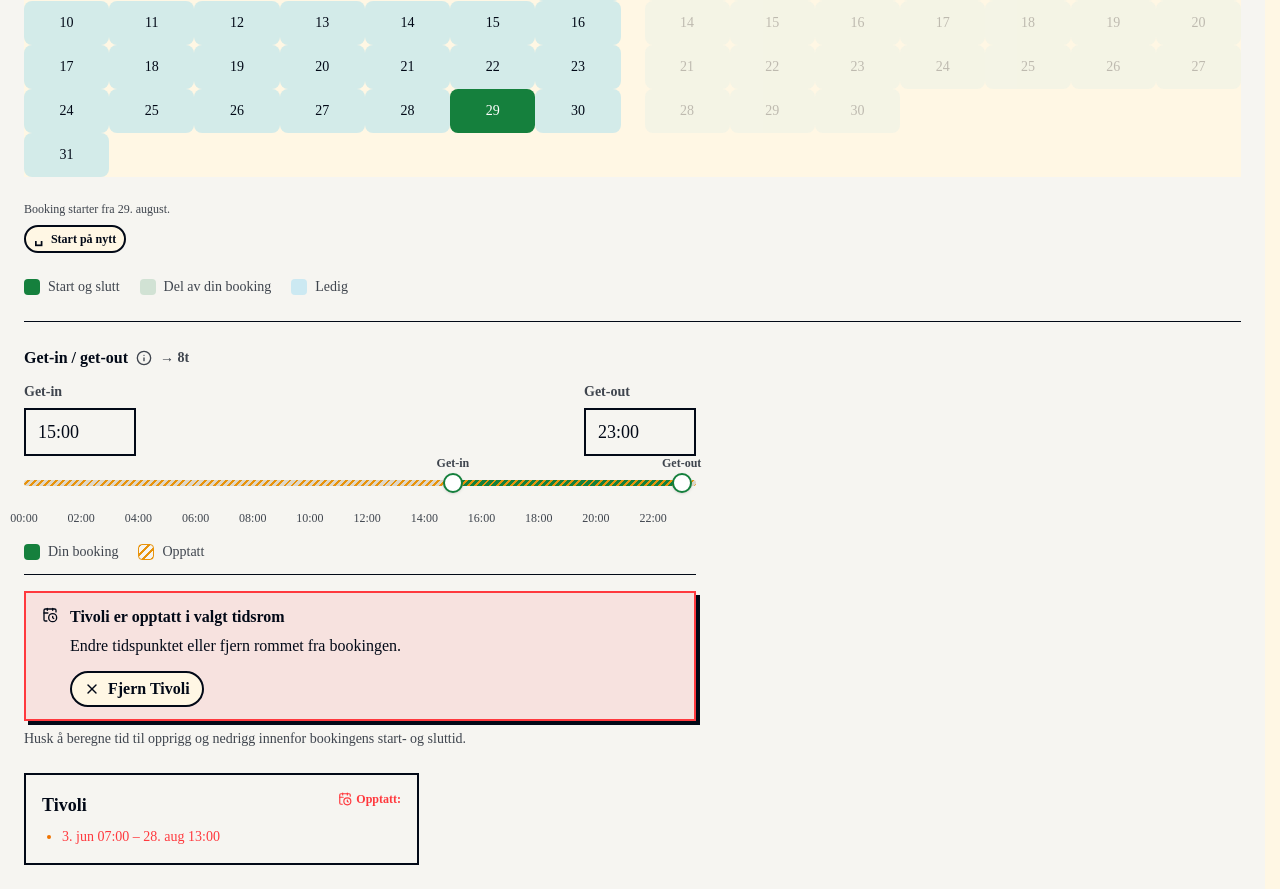
BookingFormScheduleSection occupied selected room › names the conflict and lets the user remove the occupied room
(page scrolled)
Click the button "Fjern Tivoli".
click(137, 689)  # box left=70, top=671, right=204, bottom=707
(page scrolled)
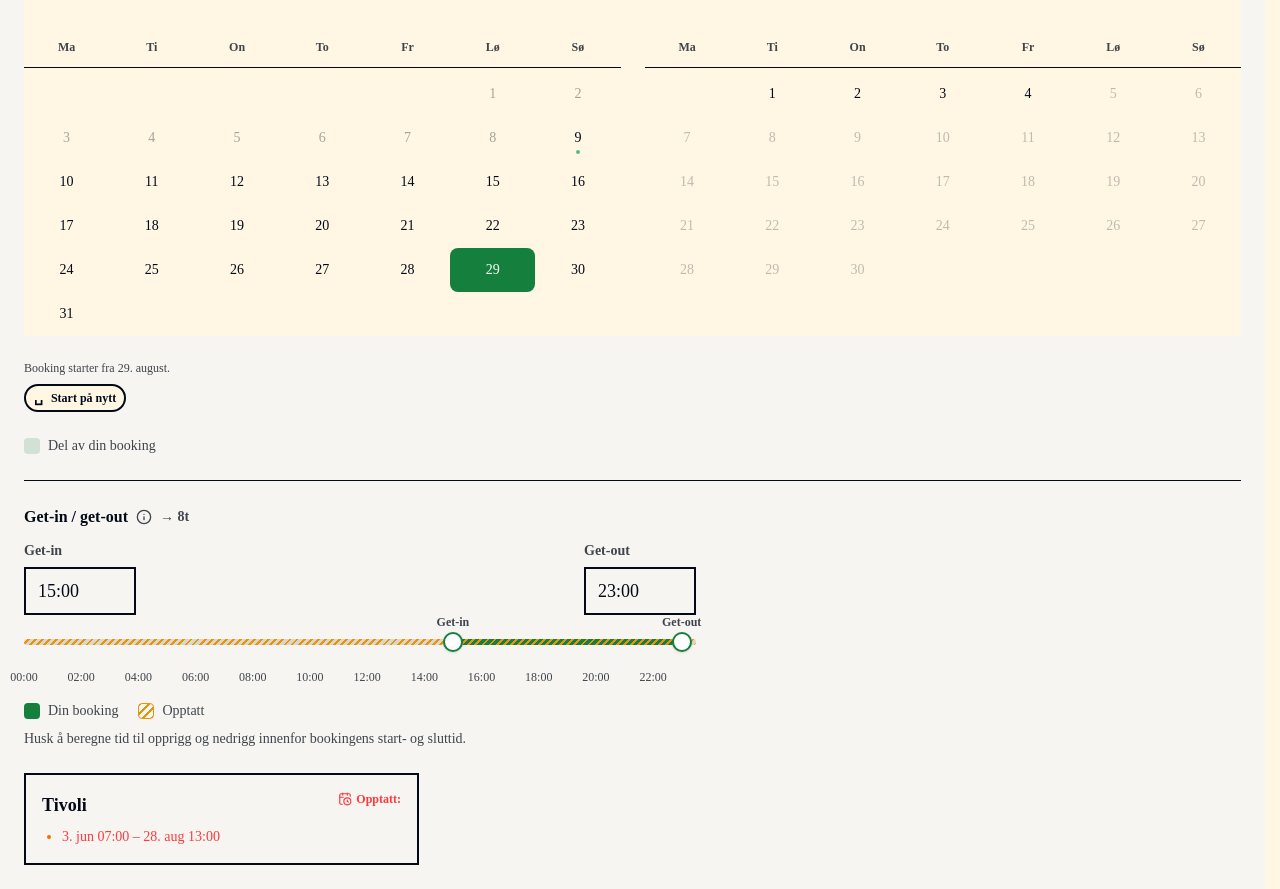
Now the text "Tivoli er opptatt i valgt tidsrom" is gone
